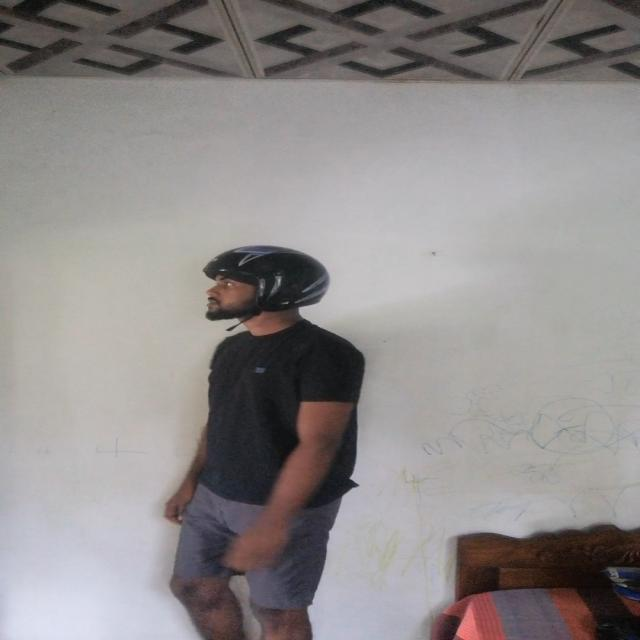Helmet_Wearer: (184, 240, 340, 336)
Person: (139, 244, 382, 616)
